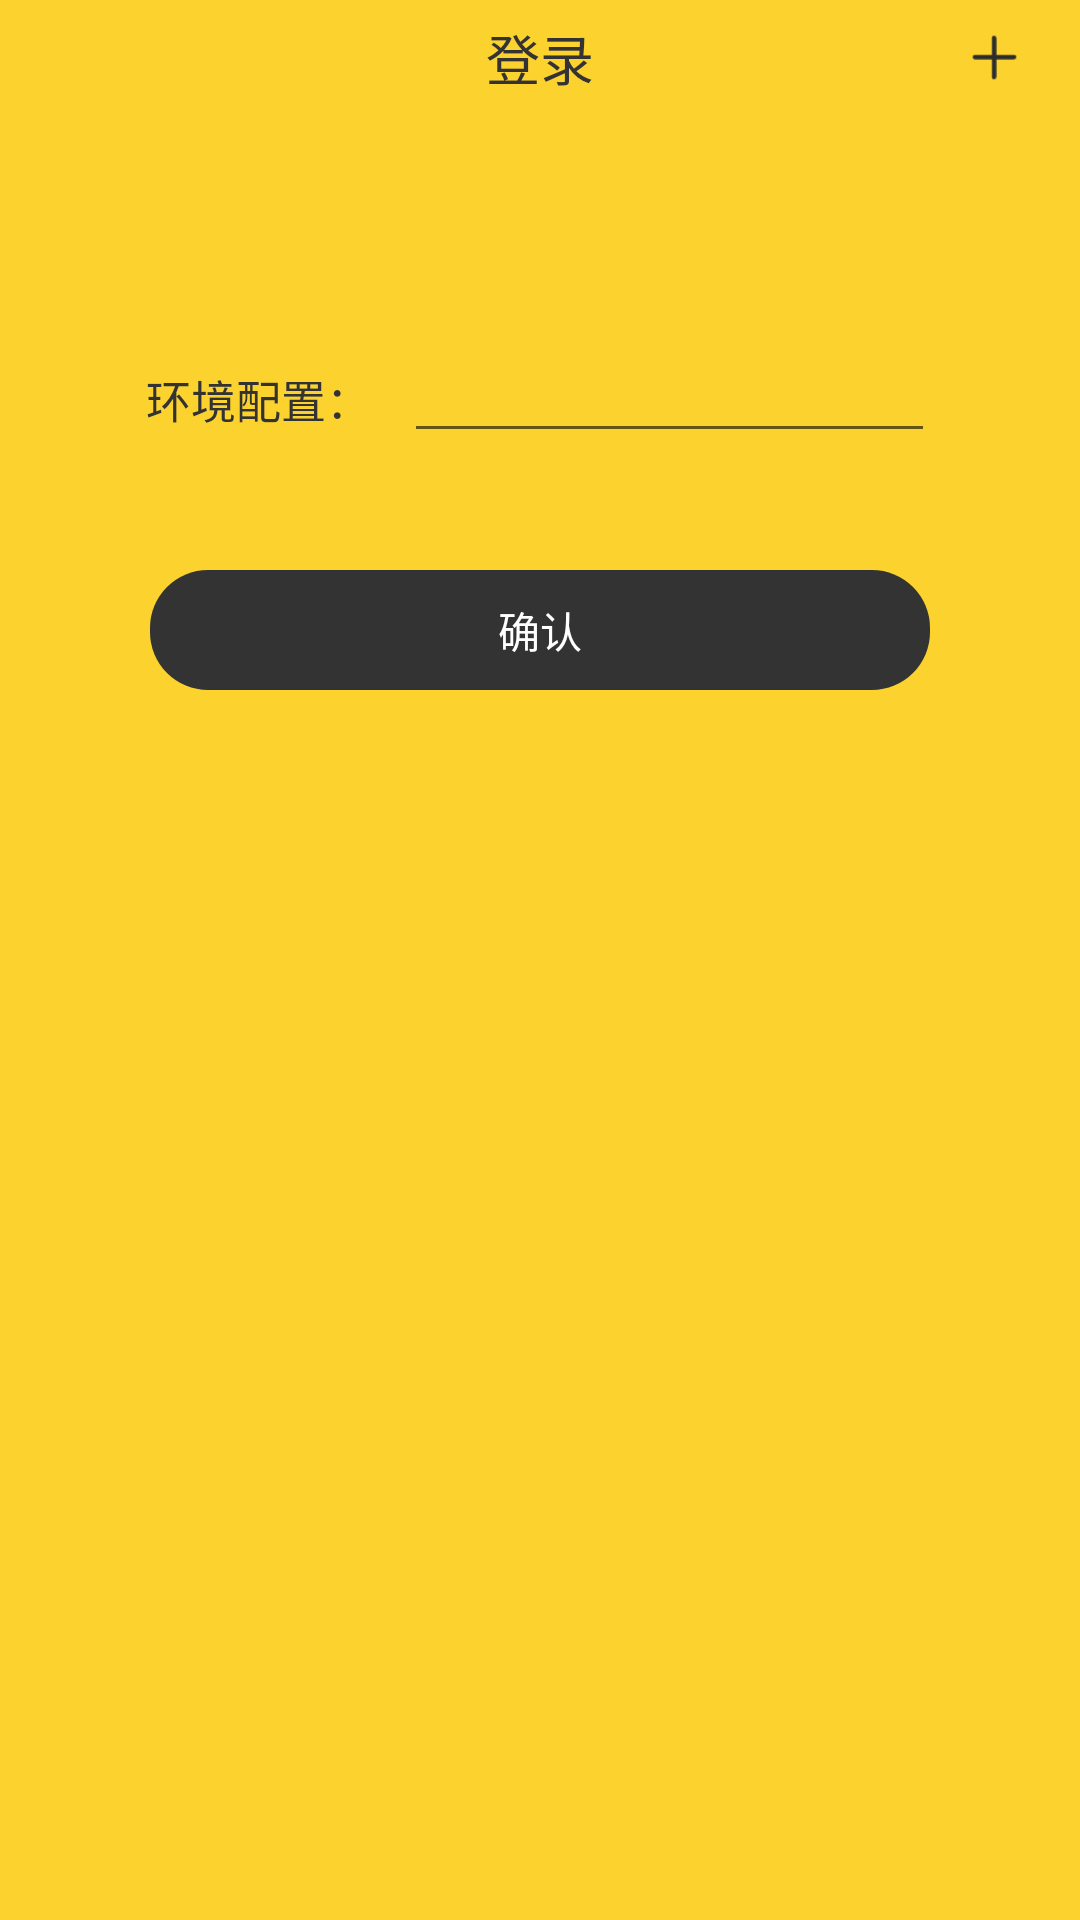

Where to tap for icons on this 1080 x 1920 app screen, as (x,y):
add: (994,57)
